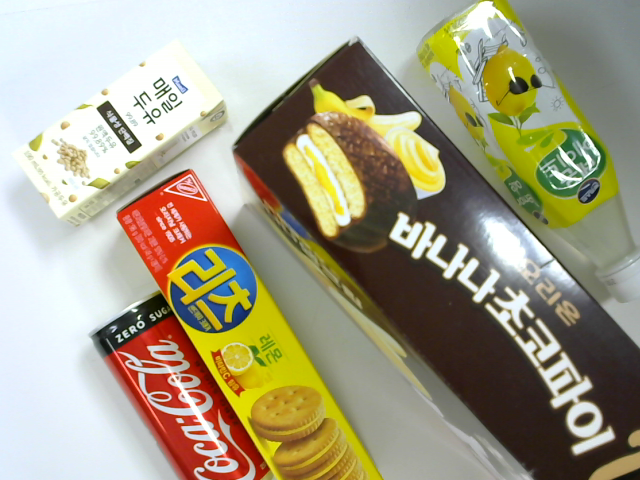99.89_Soymilk: (15, 35, 231, 227)
Choco_Pie_Banana: (233, 41, 638, 480)
Coca_Cola_Zero_Can_250ml: (83, 287, 283, 480)
Sunkist_Lemonaid_Pet: (409, 5, 640, 320)
